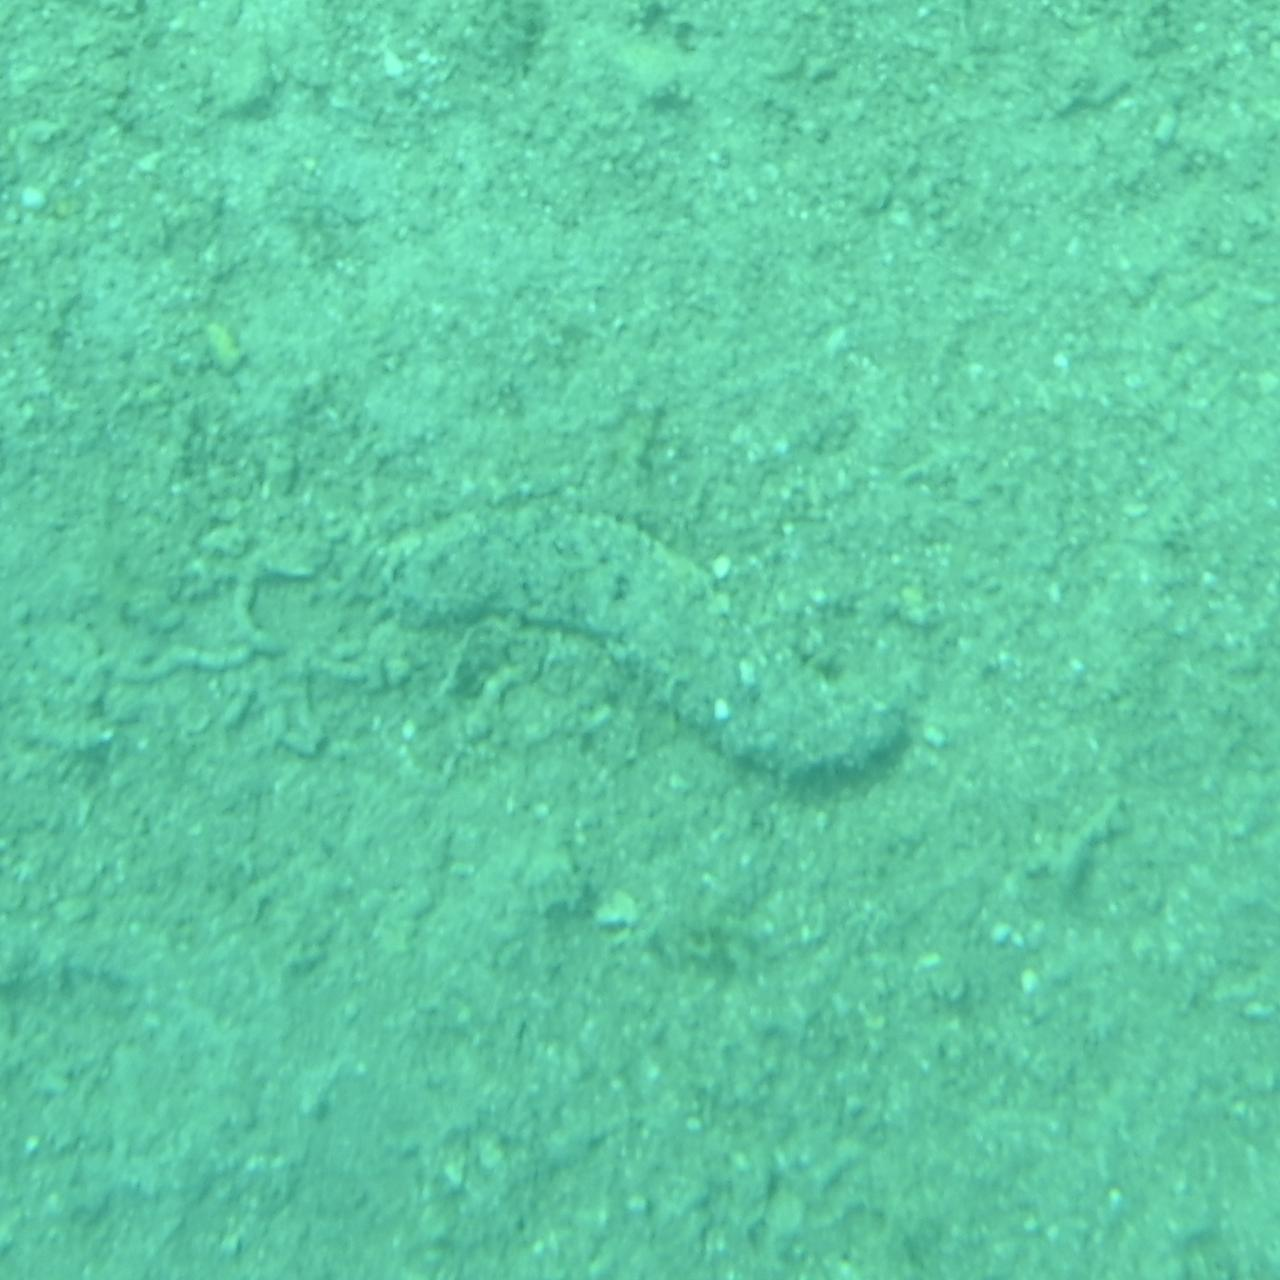Holothuria tubulosa: (354, 491, 926, 789)
